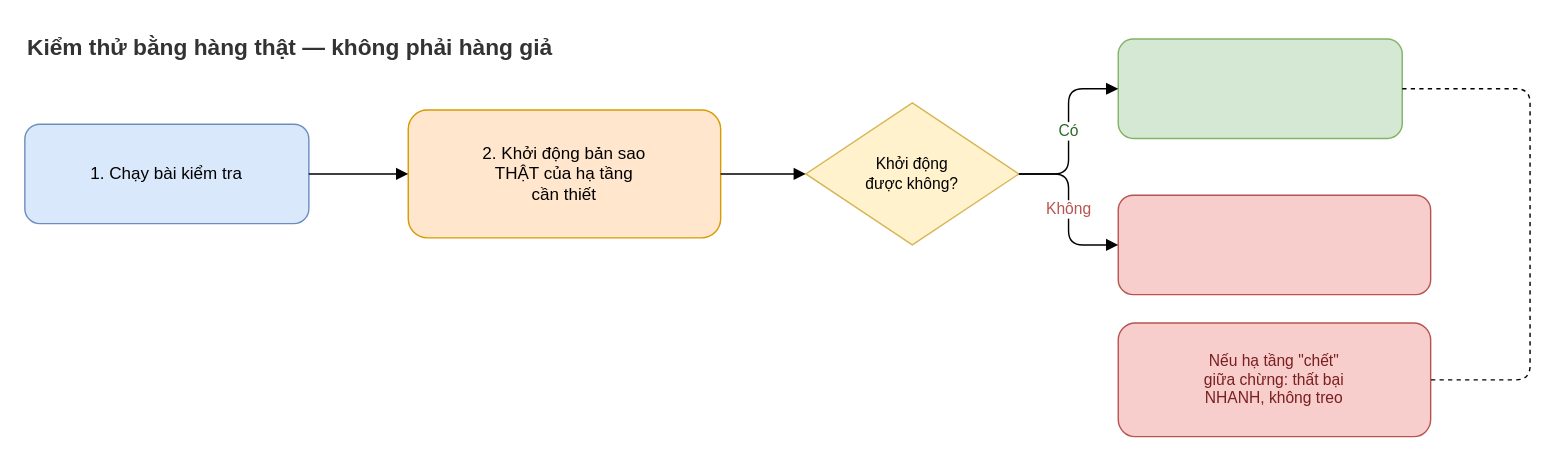
The diagram is 1556 pixels wide and 462 high, and some of its shapes have lost their labels. Each missing label, with the centre of its shape:
"3a. Kiểm tra với hệ thống thật" goes at point 1259,88.
"3b. Báo lỗi rõ tên, KHÔNG skip âm thầm" goes at point 1274,244.
